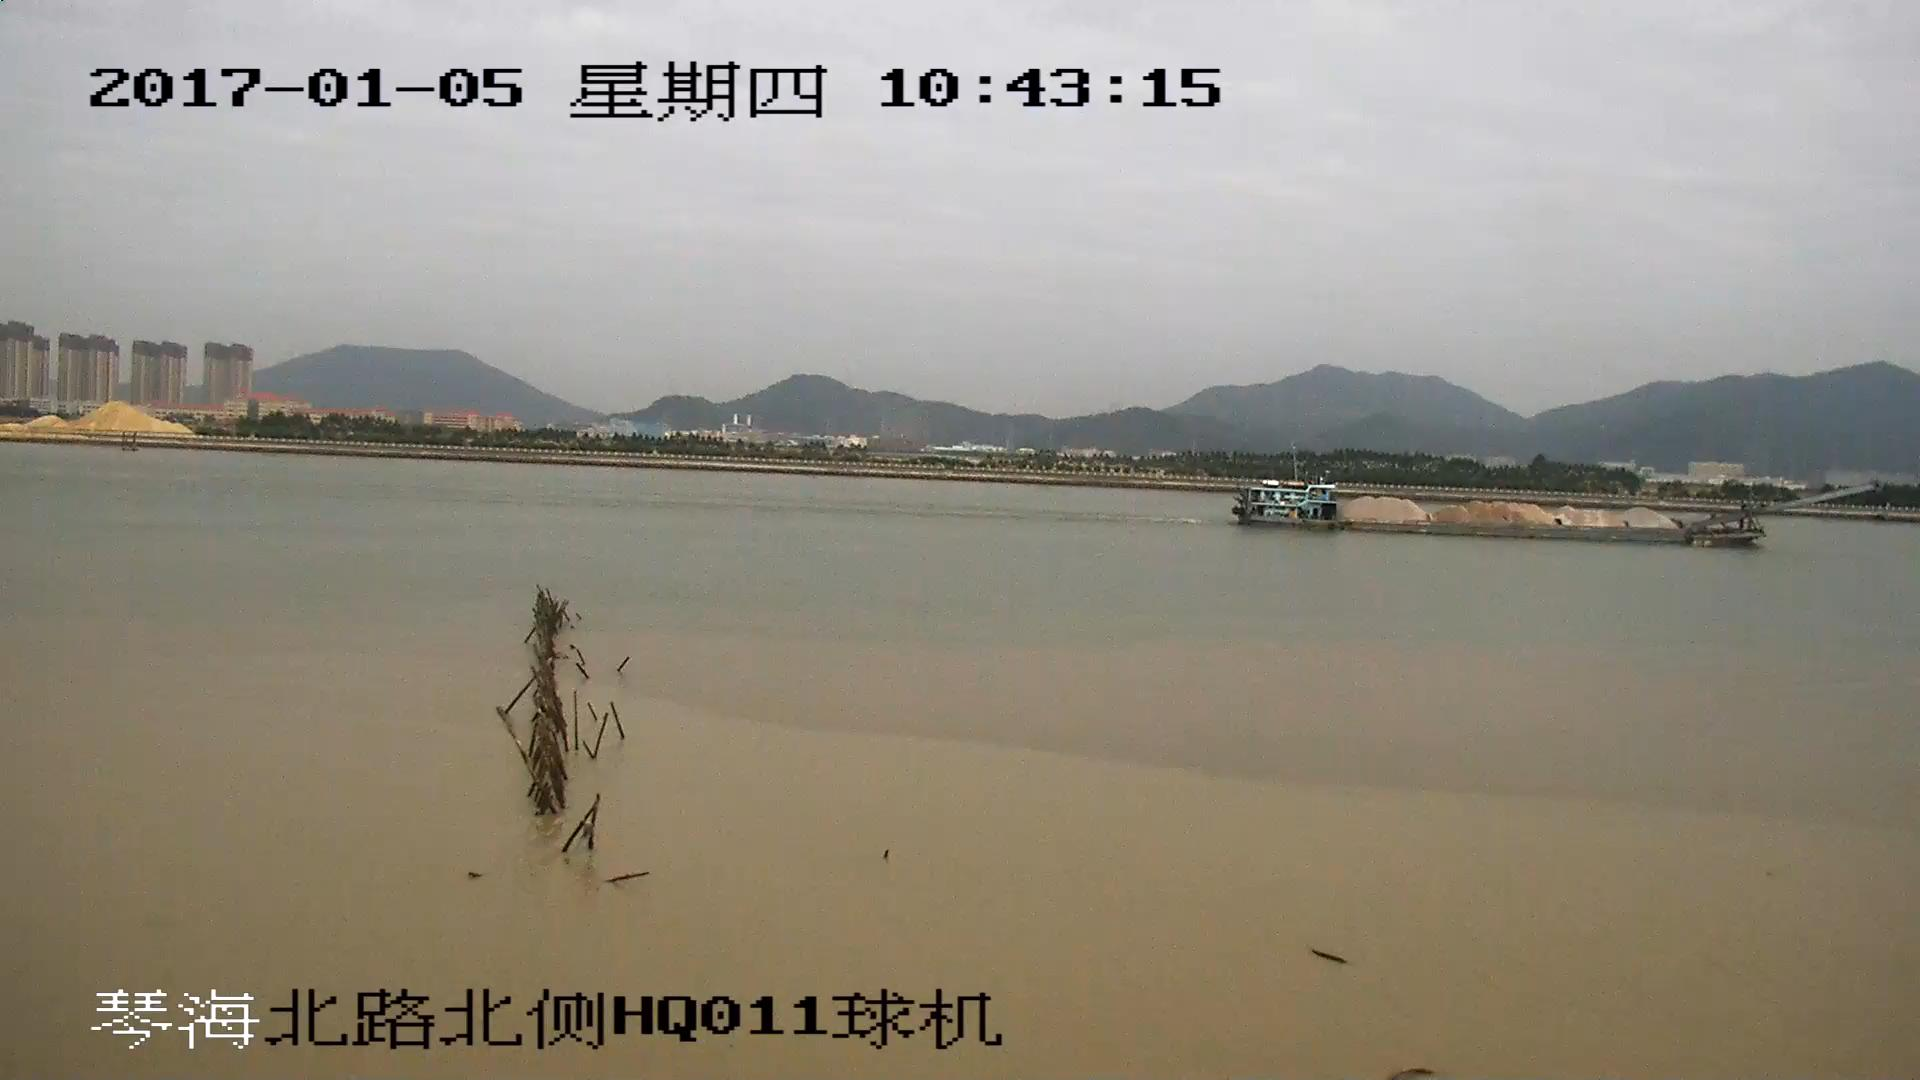ore carrier: (1236, 480, 1874, 550)
